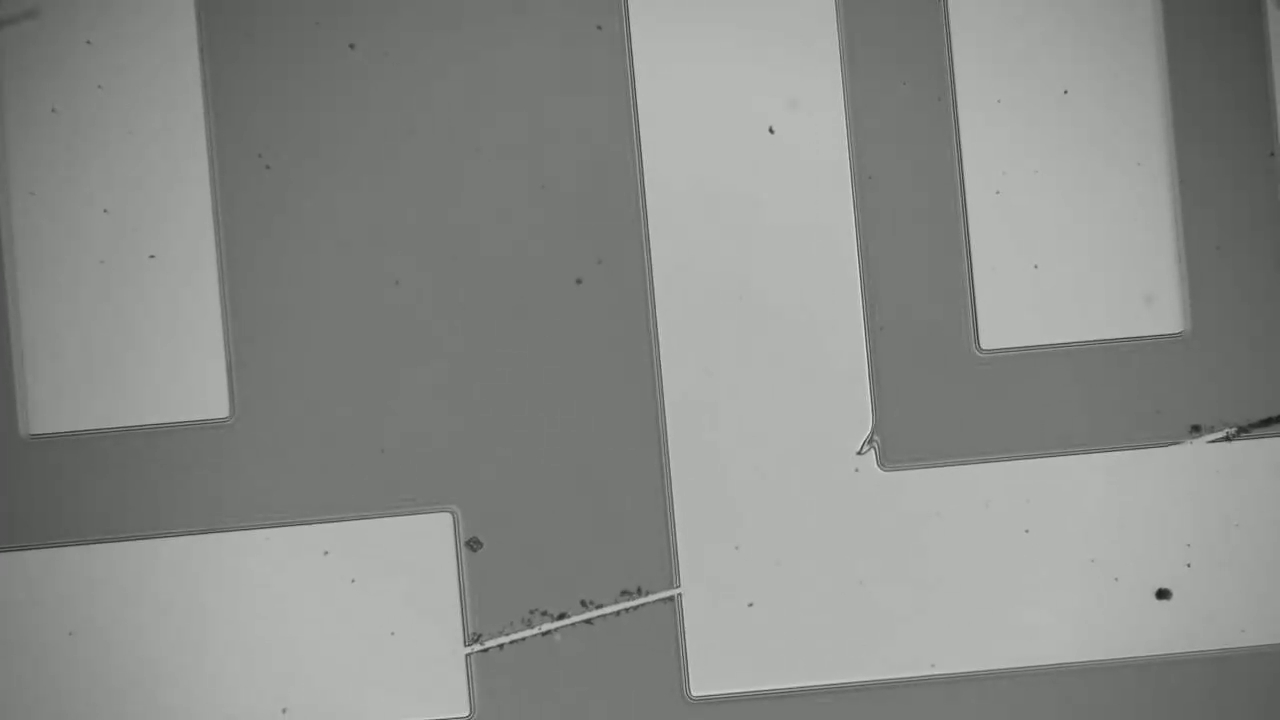scratch: (468, 589, 672, 648), (1204, 413, 1275, 441)
